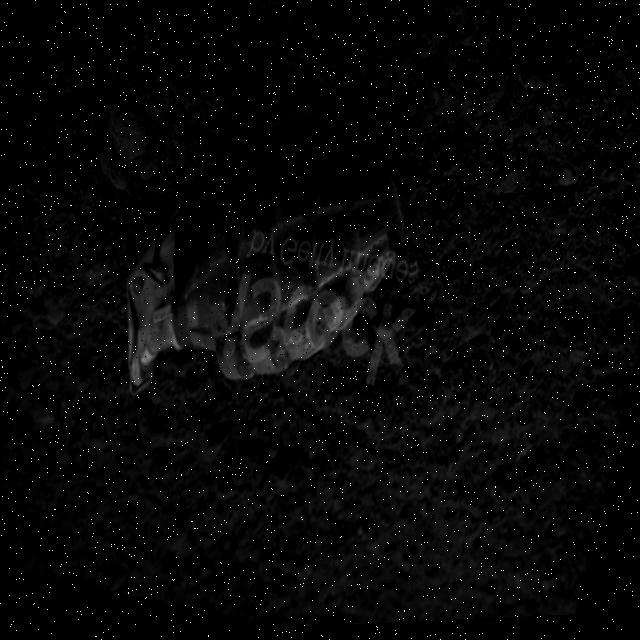grenade: (99, 61, 430, 459)
